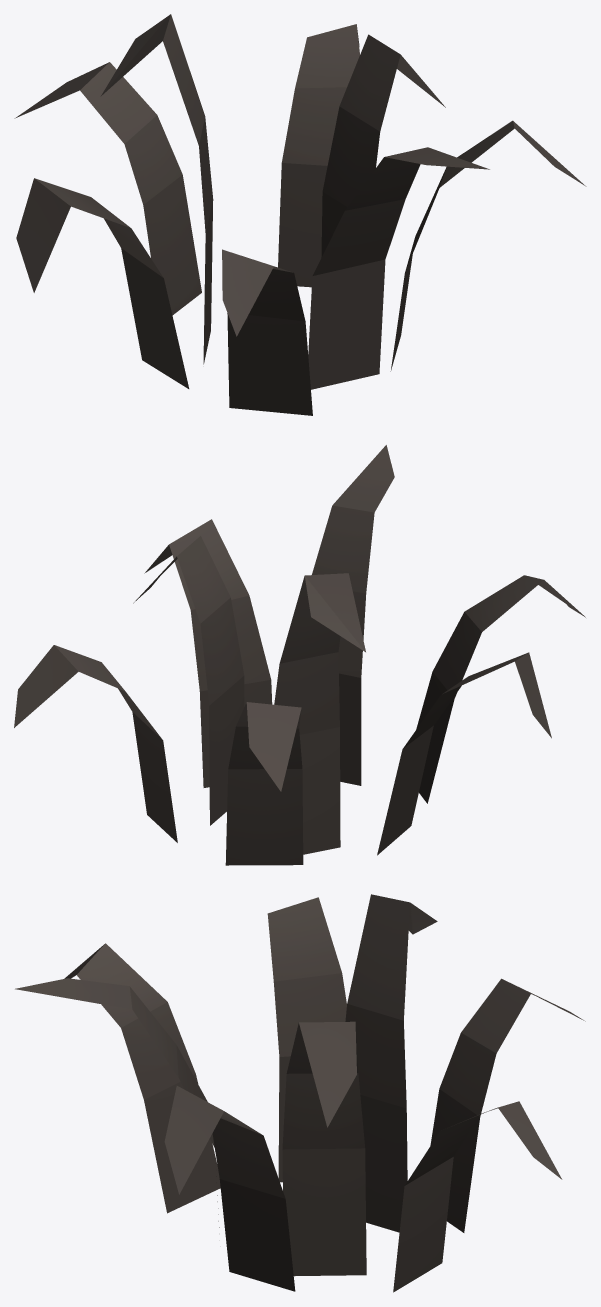
Rendered from weedsBurned.fbx.
The picture shows the model from 3 angles, top to bottom: view 1: azimuth 30°, elevation 25°; view 2: azimuth 150°, elevation 25°; view 3: azimuth 270°, elevation 25°; orthographic projection. The views are drawn at different scales.
Visible parts, largest first — view 1: Plane.001; view 2: Plane.001; view 3: Plane.001.
Part boxes in pixels (left/top/right/bottom): Plane.001: left=14, top=14, right=586, bottom=415; Plane.001: left=14, top=445, right=585, bottom=865; Plane.001: left=15, top=894, right=585, bottom=1292.
Bounding box in the file's own units: 4.06 × 4.16 × 2.52.
Materials: 1 (1 with a texture image).
